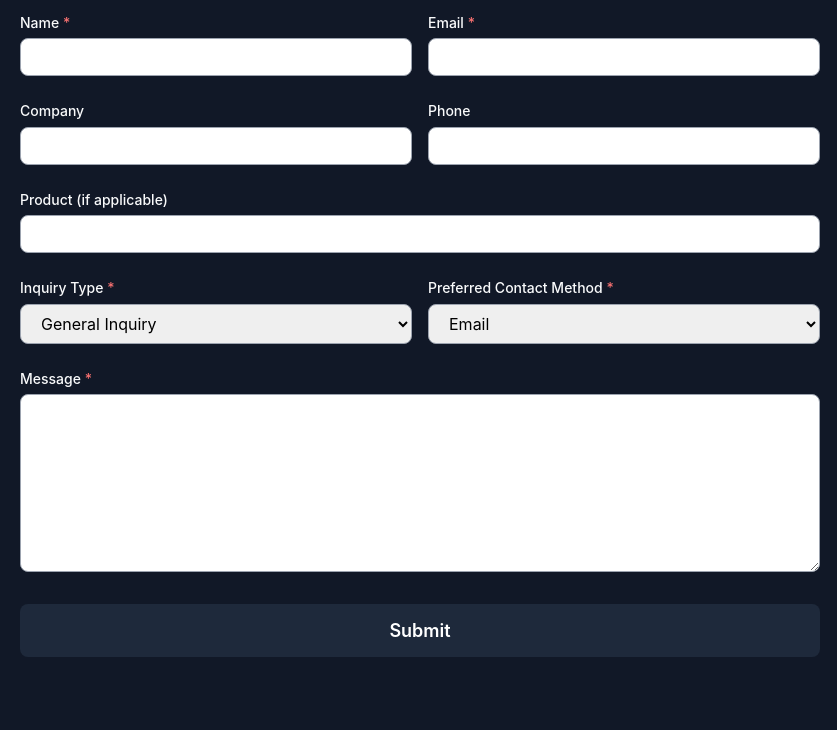
Test: ContactForm › should show validation errors for empty required fields
The width and height of the screenshot is (837, 730).
Click the button "Submit" at coordinates (420, 630), box x1=20 y1=604 x2=820 y2=656
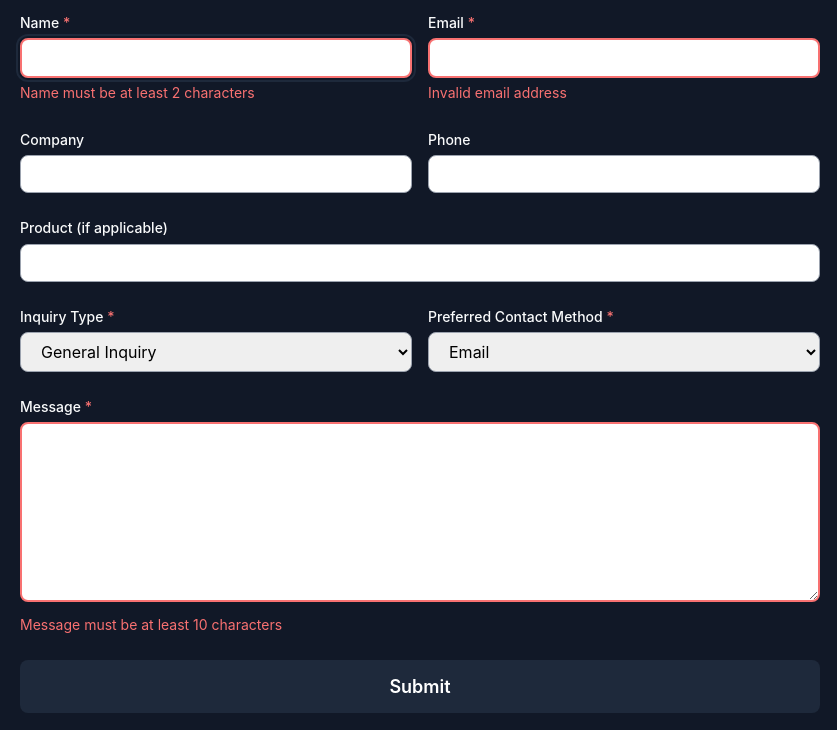
Check: the text "Name must be at least 2 characters" is shown, box x1=20 y1=84 x2=255 y2=101
